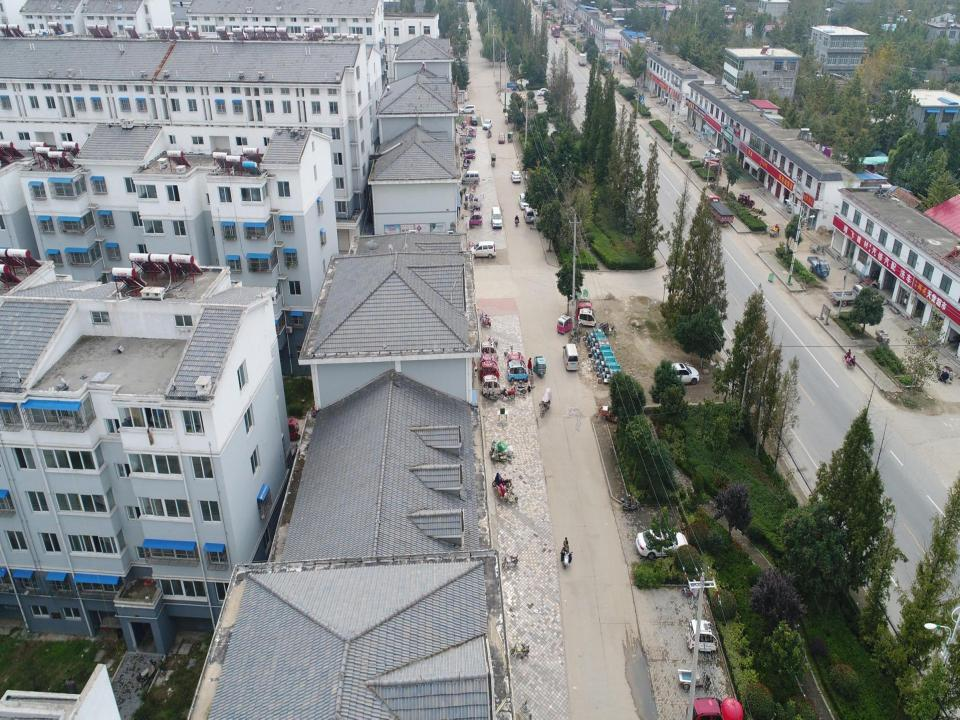car: (634, 525, 689, 560), (662, 359, 700, 387), (704, 147, 722, 164), (458, 104, 476, 114), (537, 87, 551, 97), (510, 170, 521, 182), (482, 118, 493, 130), (497, 132, 505, 144), (470, 115, 478, 125), (572, 27, 577, 33)
truck: (702, 194, 733, 226), (831, 283, 866, 307), (550, 24, 561, 37), (544, 10, 552, 20)
van: (470, 240, 497, 263), (561, 342, 578, 371), (461, 170, 480, 185), (491, 206, 503, 229), (518, 192, 531, 210), (522, 205, 534, 224), (546, 2, 554, 10), (546, 5, 554, 11)
